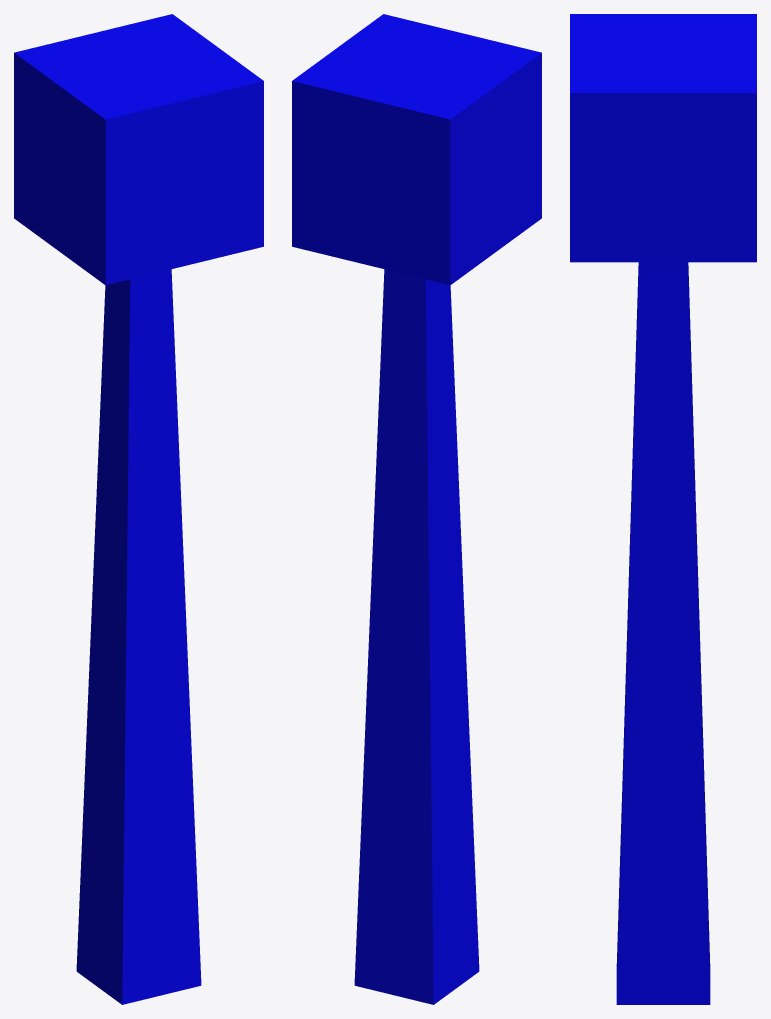
The model's file is grabz.obj.
3 views of the same model, side by side, from view 1: azimuth 30°, elevation 25°; view 2: azimuth 150°, elevation 25°; view 3: azimuth 270°, elevation 25° (orthographic). The views are drawn at different scales.
Parts seen in each view (by area): view 1: Cube; view 2: Cube; view 3: Cube.
Part boxes in pixels (left/top/right/bottom): Cube: left=14, top=14, right=263, bottom=1004; Cube: left=292, top=14, right=541, bottom=1004; Cube: left=570, top=14, right=756, bottom=1004.
Bounding box in the file's own units: 0.1 × 0.55 × 0.1.
